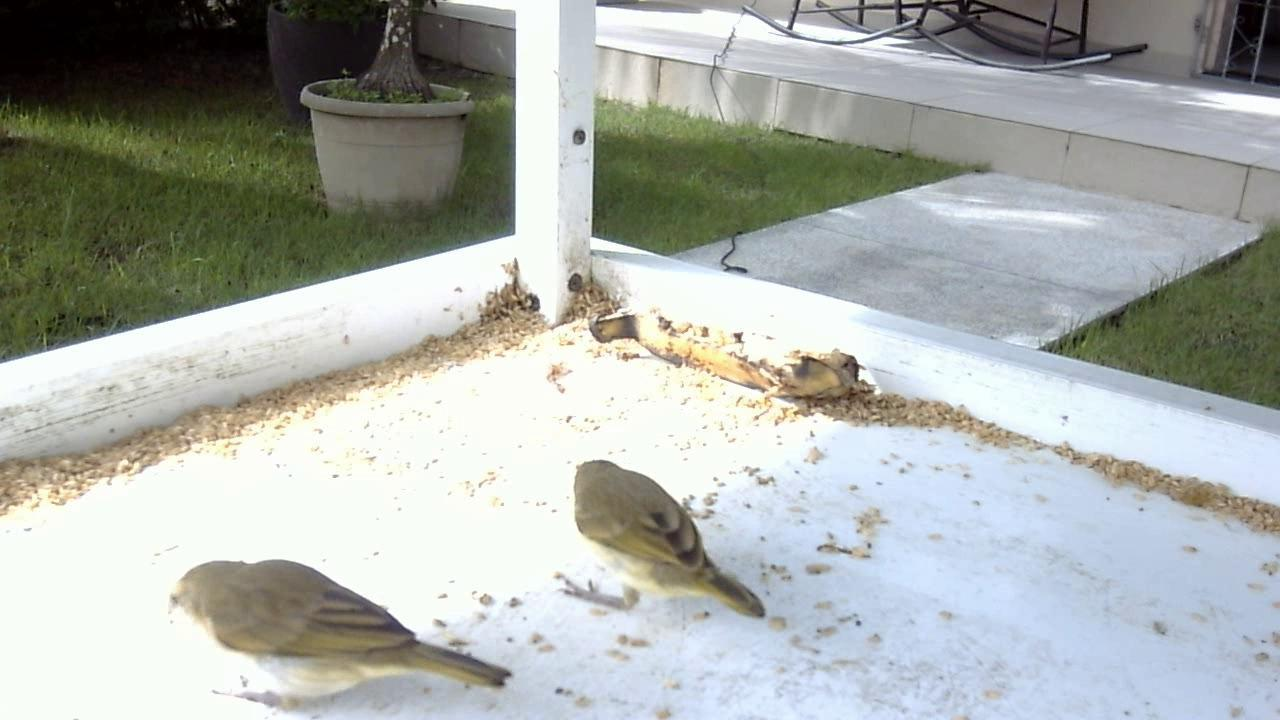canario_do_amazonas: (160, 546, 513, 710), (546, 449, 770, 625)
